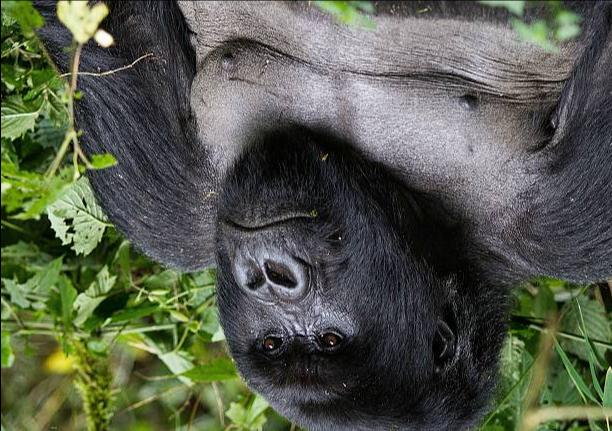goriile_montagne: (59, 0, 608, 431)
